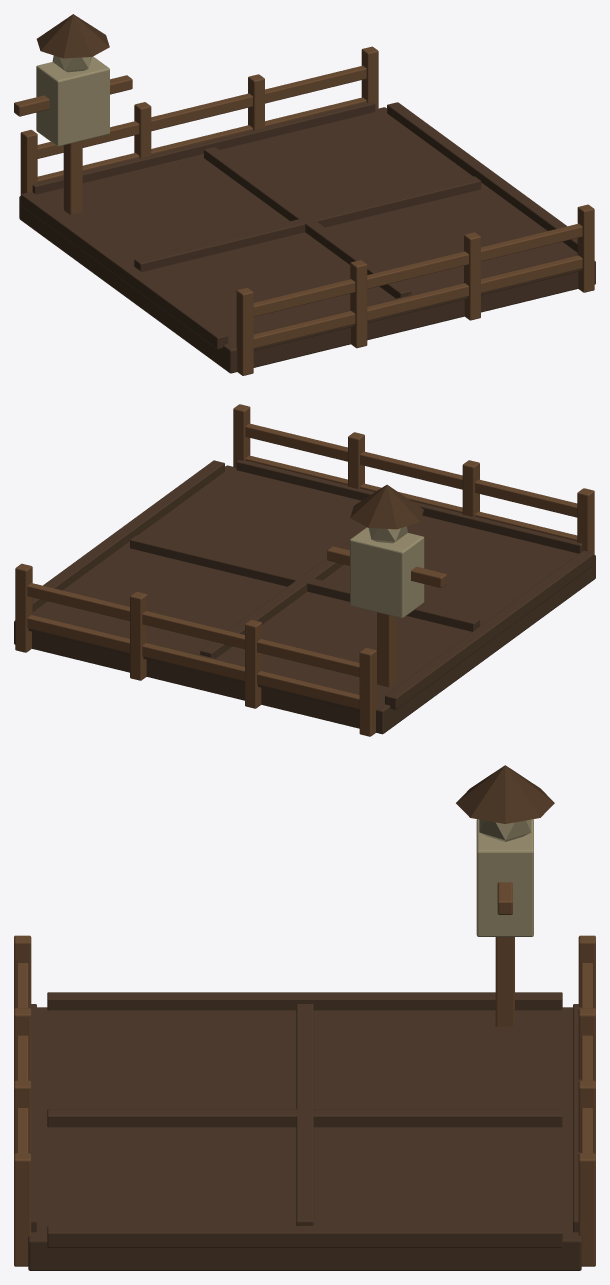
The model's file is farm.glb.
3 renders of one model, top to bottom at view 1: azimuth 30°, elevation 25°; view 2: azimuth 150°, elevation 25°; view 3: azimuth 270°, elevation 25°, orthographic. The views are drawn at different scales.
Parts seen in each view (by area): view 1: farm; view 2: farm; view 3: farm.
Part boxes in pixels (box(x1,y1,x2,y2)): farm: box(14, 14, 595, 375); farm: box(14, 404, 595, 736); farm: box(14, 765, 595, 1270).
Bounding box in the file's own units: 3.2 × 1.67 × 3.05.
